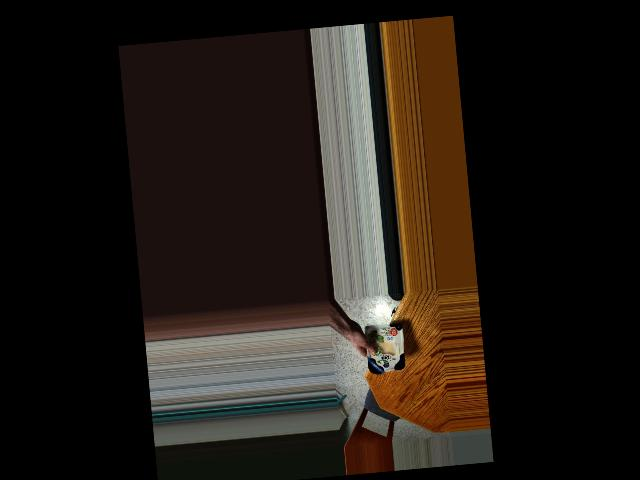cheese: (361, 319, 405, 375)
